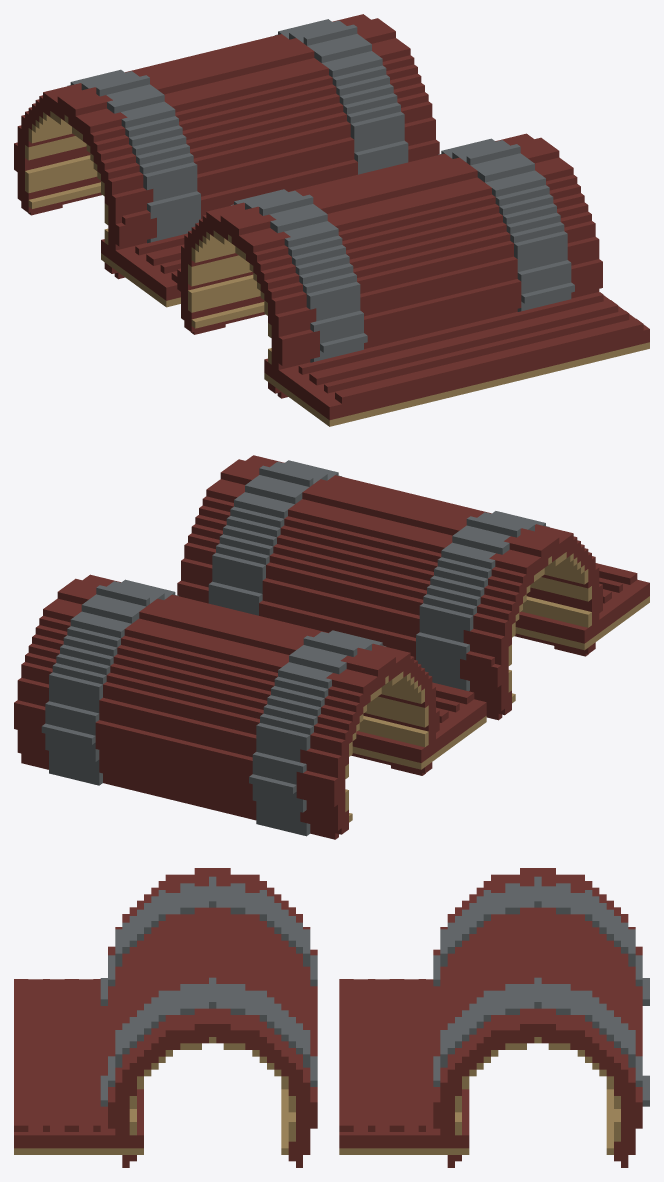
File: carpet_bracers.glb
3 renders of one model, top to bottom at view 1: azimuth 30°, elevation 25°; view 2: azimuth 150°, elevation 25°; view 3: azimuth 270°, elevation 25°, orthographic.
Visible parts, largest first — view 1: carpet_bracers:compound; view 2: carpet_bracers:compound; view 3: carpet_bracers:compound.
Part boxes in pixels (x1,y1,x2,y2): carpet_bracers:compound: (14, 14, 649, 426); carpet_bracers:compound: (14, 455, 649, 839); carpet_bracers:compound: (14, 868, 649, 1167).
Size of the model in its own units: 0.204 by 0.092 by 0.352.
